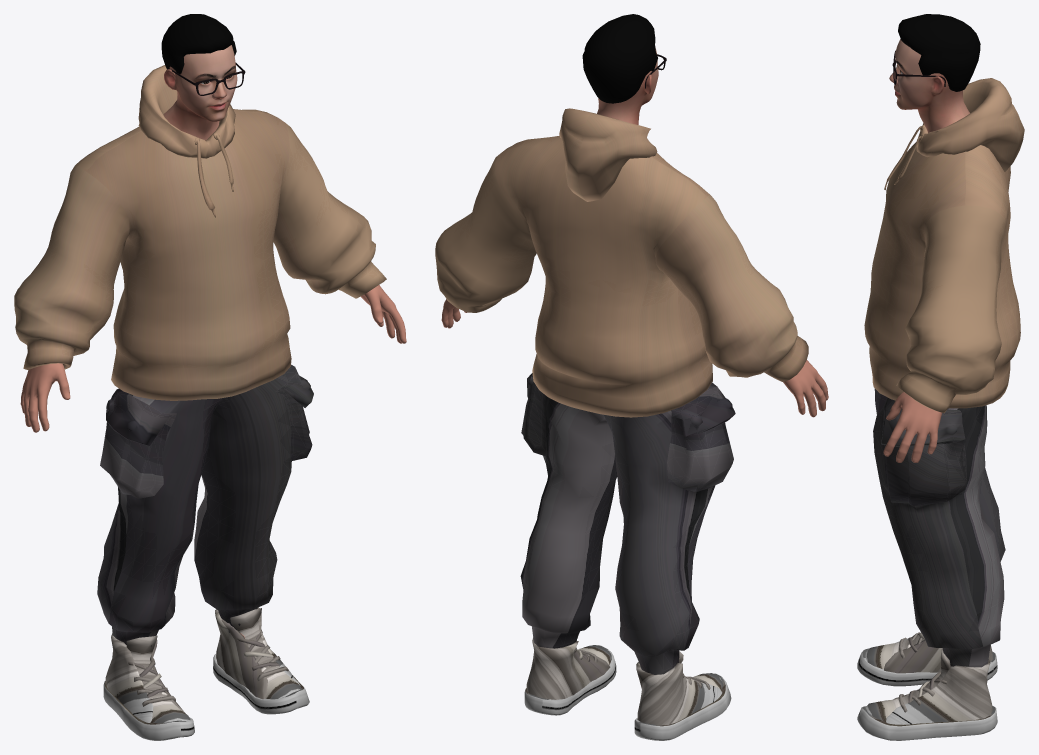
Rendered from idle.fbx.
3 views of the same model, side by side, from view 1: azimuth 30°, elevation 25°; view 2: azimuth 150°, elevation 25°; view 3: azimuth 270°, elevation 25° (orthographic).
Parts seen in each view (by area): view 1: Wolf3D_Outfit_Top, Wolf3D_Outfit_Bottom, Wolf3D_Outfit_Footwear, Wolf3D_Head, Wolf3D_Body, Wolf3D_Hair; view 2: Wolf3D_Outfit_Top, Wolf3D_Outfit_Bottom, Wolf3D_Outfit_Footwear, Wolf3D_Hair, Wolf3D_Body, Wolf3D_Head; view 3: Wolf3D_Outfit_Top, Wolf3D_Outfit_Bottom, Wolf3D_Outfit_Footwear, Wolf3D_Hair, Wolf3D_Head, Wolf3D_Body.
Part boxes in pixels (<box>): Wolf3D_Outfit_Top: <box>14,65,386,400</box>; Wolf3D_Outfit_Bottom: <box>97,364,313,646</box>; Wolf3D_Outfit_Footwear: <box>103,607,309,740</box>; Wolf3D_Head: <box>163,45,237,140</box>; Wolf3D_Body: <box>20,285,406,637</box>; Wolf3D_Hair: <box>161,14,236,74</box>; Wolf3D_Outfit_Top: <box>435,108,808,417</box>; Wolf3D_Outfit_Bottom: <box>520,373,735,674</box>; Wolf3D_Outfit_Footwear: <box>524,637,731,740</box>; Wolf3D_Hair: <box>582,14,657,103</box>; Wolf3D_Body: <box>441,299,828,417</box>; Wolf3D_Head: <box>597,47,658,124</box>; Wolf3D_Outfit_Top: <box>864,78,1024,413</box>; Wolf3D_Outfit_Bottom: <box>873,388,1005,667</box>; Wolf3D_Outfit_Footwear: <box>857,632,997,740</box>; Wolf3D_Hair: <box>898,14,980,91</box>; Wolf3D_Head: <box>889,39,969,132</box>; Wolf3D_Body: <box>883,392,942,462</box>.
Bounding box in the file's own units: 1.06 × 1.87 × 0.412.
9 materials, 9 textured.
